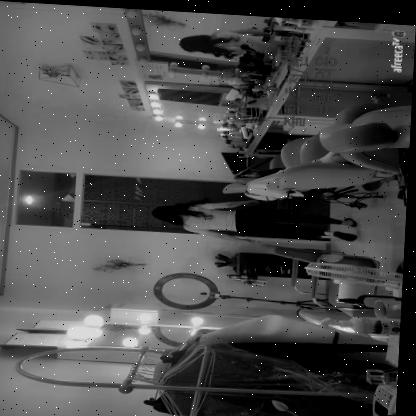streamer: (152, 191, 360, 244), (180, 20, 269, 58)
